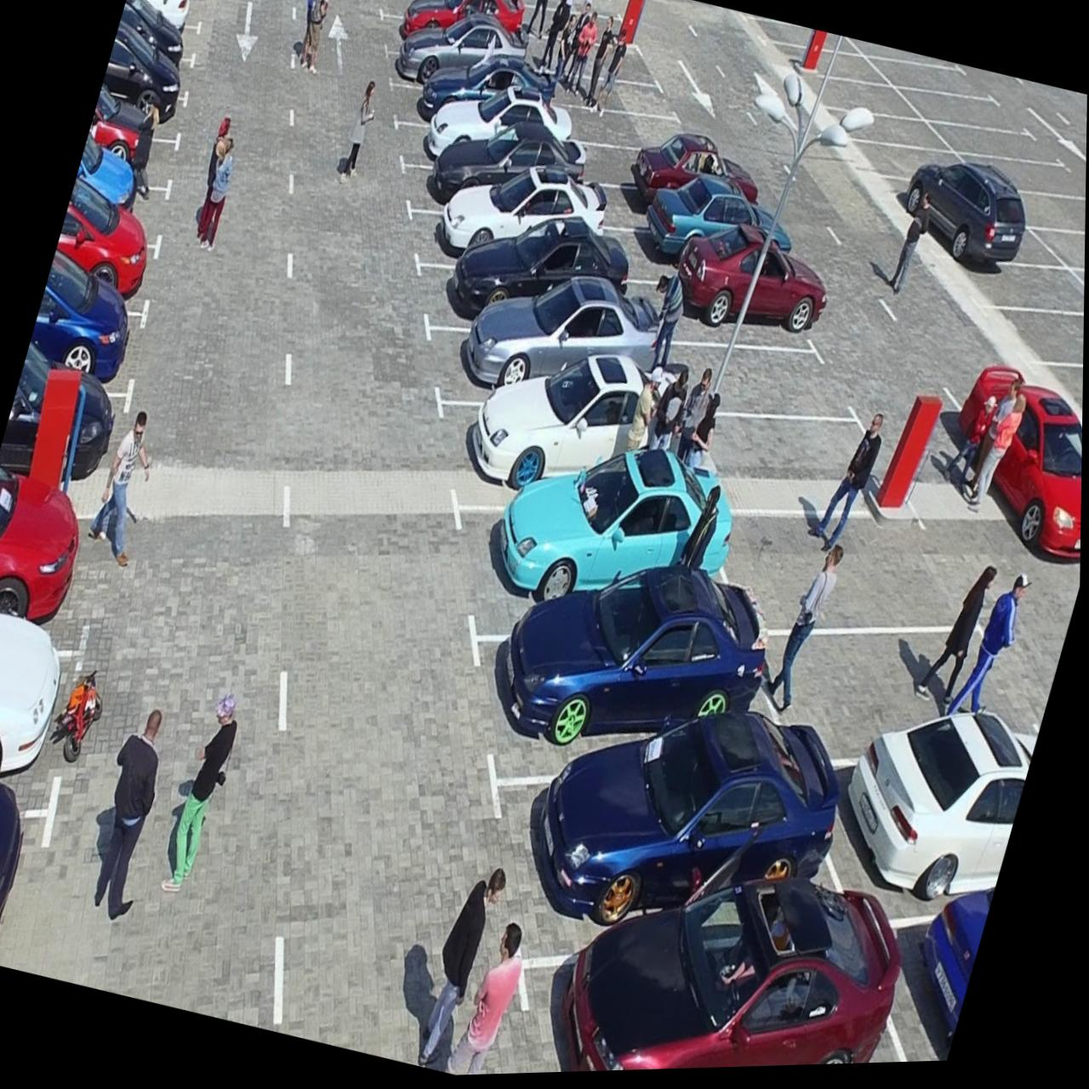cars: (501, 657, 833, 981), (536, 819, 908, 1073), (485, 543, 741, 820), (475, 424, 713, 670), (447, 323, 683, 535), (440, 238, 651, 440), (821, 699, 1035, 892), (422, 201, 606, 369), (411, 154, 582, 299), (397, 78, 569, 208), (403, 121, 576, 249), (392, 39, 556, 161), (655, 239, 803, 359), (0, 366, 131, 501), (385, 10, 528, 116), (0, 624, 86, 799), (631, 196, 763, 302), (22, 284, 146, 394), (0, 511, 96, 647), (602, 160, 728, 262), (0, 774, 61, 957), (925, 197, 1041, 289), (378, 0, 514, 75), (886, 162, 1004, 243), (49, 220, 156, 297), (78, 120, 177, 192), (70, 164, 171, 222), (112, 6, 201, 69), (97, 77, 186, 139), (103, 42, 194, 102), (123, 0, 205, 28)
empty: (763, 589, 988, 778), (718, 490, 947, 665), (700, 375, 874, 521), (669, 311, 826, 441), (958, 237, 1085, 342), (535, 50, 666, 133), (993, 281, 1084, 391), (556, 86, 670, 165), (926, 103, 1044, 179), (585, 125, 691, 208), (520, 21, 637, 96), (825, 88, 937, 164), (779, 22, 893, 95), (974, 137, 1086, 208), (910, 78, 1020, 149), (1000, 169, 1086, 255), (803, 56, 909, 125), (873, 43, 984, 108), (854, 127, 956, 195), (372, 0, 510, 45), (510, 0, 621, 55), (1042, 205, 1085, 300), (495, 0, 607, 24), (367, 0, 495, 6)
